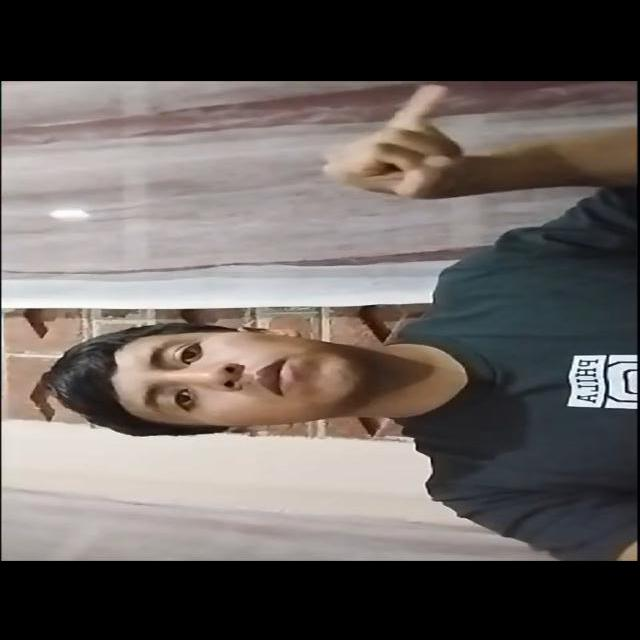J: (286, 80, 500, 240)
